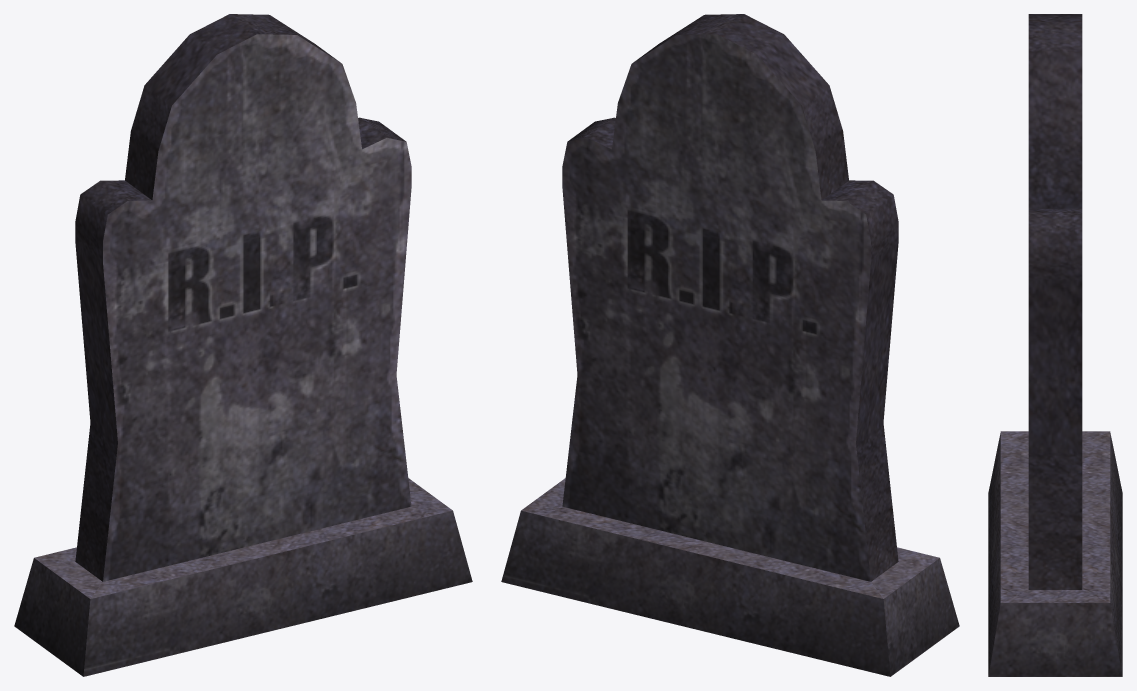
The model's file is GravestoneRock2.fbx.
The picture shows the model from 3 angles, left to right: view 1: azimuth 30°, elevation 25°; view 2: azimuth 150°, elevation 25°; view 3: azimuth 270°, elevation 25°; orthographic projection. The views are drawn at different scales.
Parts seen in each view (by area): view 1: Tombstone_02; view 2: Tombstone_02; view 3: Tombstone_02.
Boxes of the visible parts, left/top/right/bottom form: Tombstone_02: left=14, top=14, right=472, bottom=676; Tombstone_02: left=501, top=14, right=959, bottom=676; Tombstone_02: left=988, top=14, right=1122, bottom=676.
Size of the model in its own units: 177 by 252 by 54.44.
